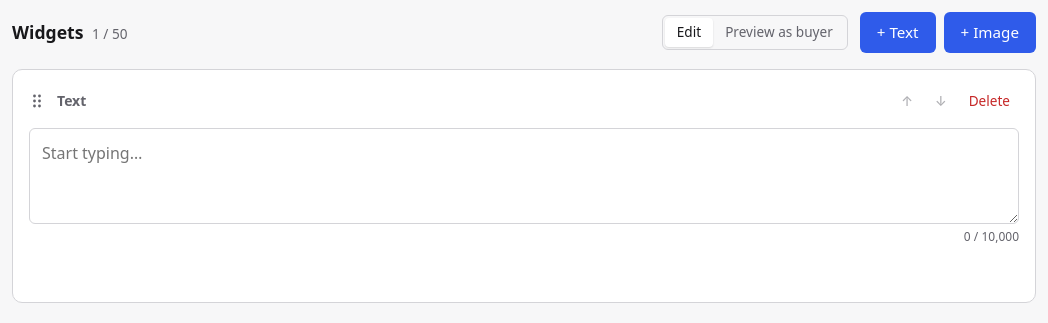
Scenario: WidgetBoard › text widgets › shows a retry action when saving fails permanently
Type "x" into the text box named "Widget text" at (524, 176), box [29,128,1019,224]
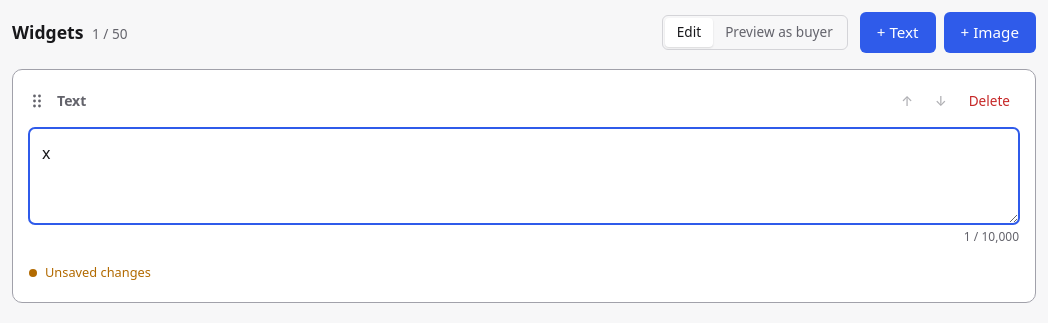
Press Tab
Wait 1000 ms
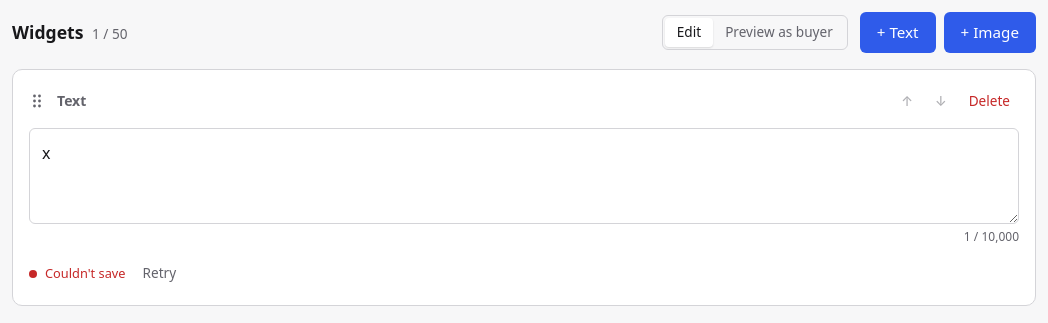
Expected: the text "Couldn't save" is shown, [29,264,126,283]
Click the button "Retry" at (159, 273), box [134,258,185,289]
Wait 1000 ms
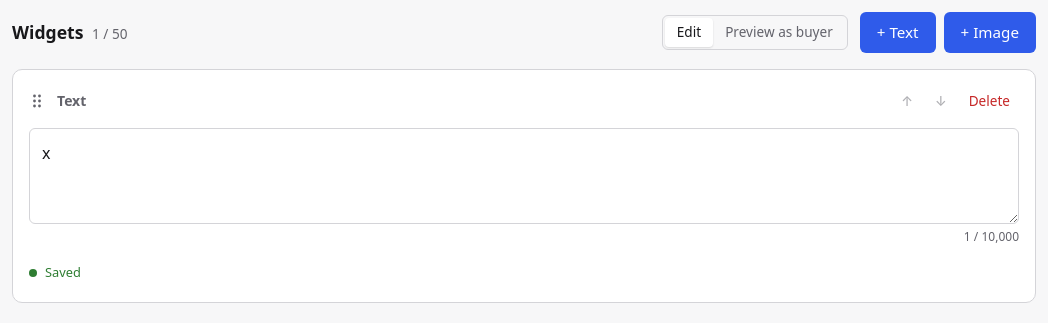
Expected: the text "Saved" is shown, [29,263,81,282]
